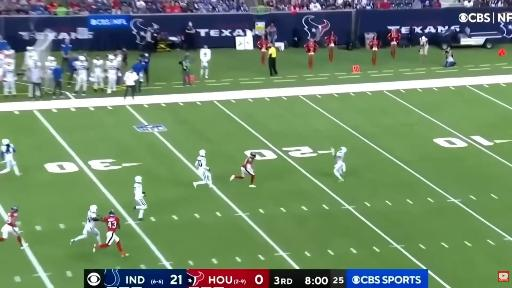Helmet: (199, 149, 206, 157), (135, 176, 142, 183), (90, 205, 97, 212), (5, 59, 14, 64), (11, 206, 18, 212), (2, 139, 9, 145), (250, 152, 256, 158), (48, 56, 55, 61), (109, 210, 115, 215), (341, 147, 346, 153), (79, 56, 85, 61), (108, 55, 114, 60), (26, 47, 33, 51), (0, 54, 5, 59)
Jersey: (104, 215, 119, 232), (0, 144, 15, 161), (2, 64, 15, 81), (75, 61, 88, 78), (106, 60, 117, 76), (93, 59, 104, 74), (7, 211, 17, 227), (87, 211, 97, 227), (196, 156, 208, 169), (24, 52, 37, 64), (45, 62, 56, 76), (200, 49, 211, 62), (134, 183, 143, 198), (243, 157, 254, 167), (336, 151, 344, 163), (420, 36, 428, 47), (116, 55, 122, 68), (0, 54, 5, 66)
Player: (94, 210, 127, 256), (71, 205, 101, 244), (0, 207, 27, 249), (230, 152, 256, 187), (0, 139, 21, 175), (193, 150, 213, 187), (73, 56, 88, 95), (134, 176, 147, 220), (2, 59, 17, 96), (332, 147, 346, 181), (23, 47, 37, 80), (105, 55, 117, 93), (92, 56, 104, 91), (44, 56, 56, 91), (200, 46, 211, 78), (419, 36, 428, 62), (116, 51, 122, 84), (4, 47, 15, 61), (0, 52, 5, 67)
